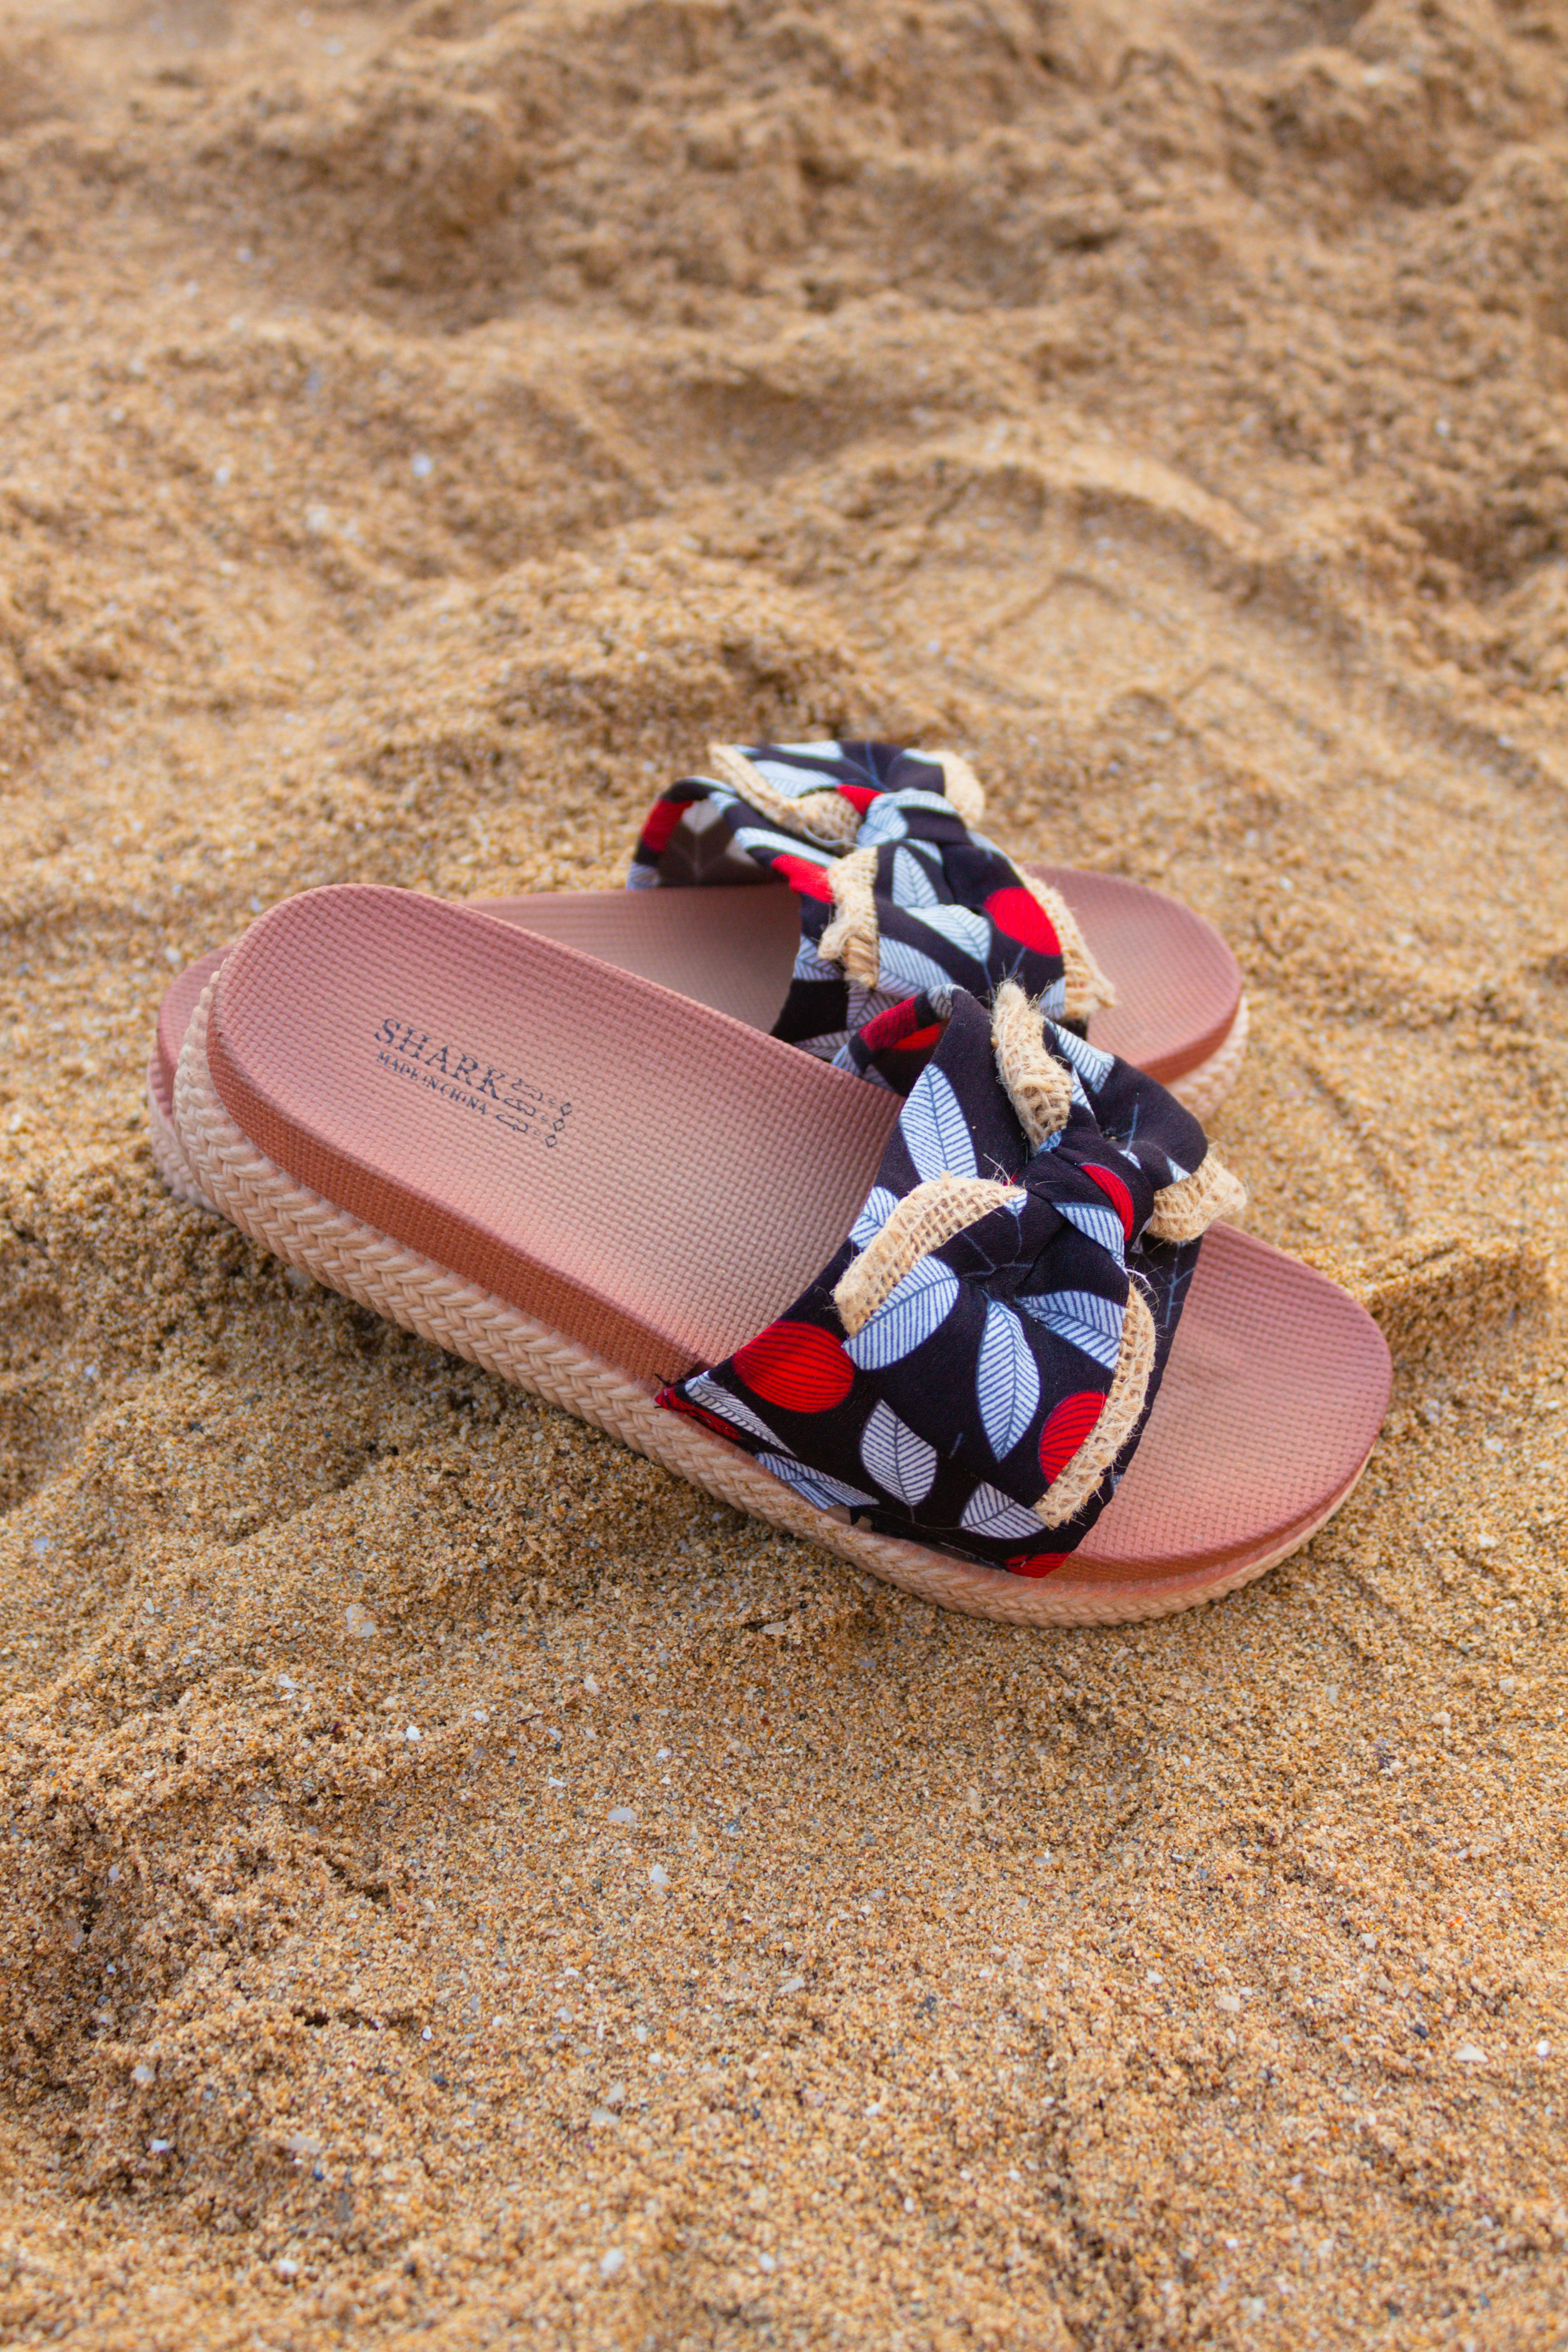Footwear: (108, 677, 1432, 1652)
